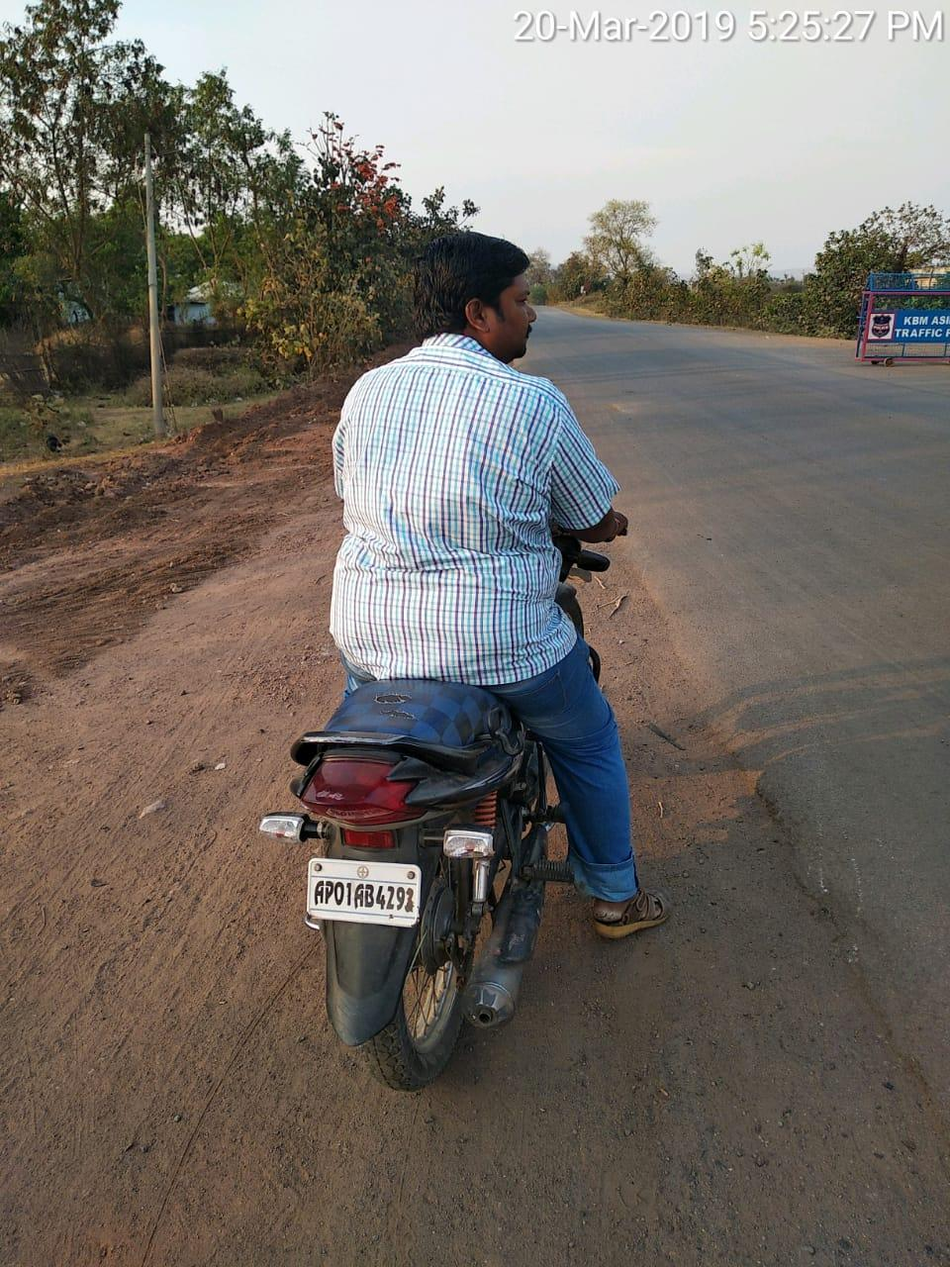plate: (296, 844, 436, 942)
